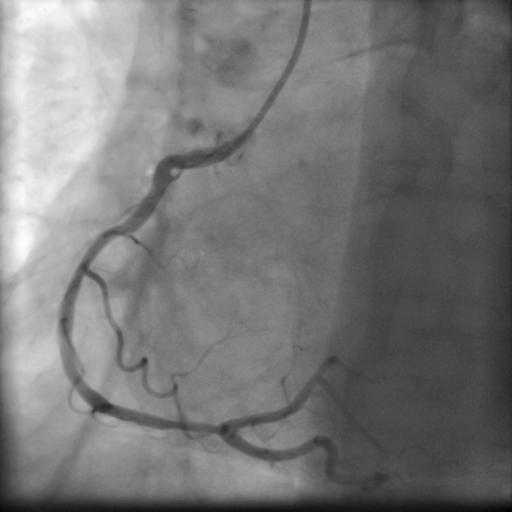Stenosis: (164, 413, 220, 440)
